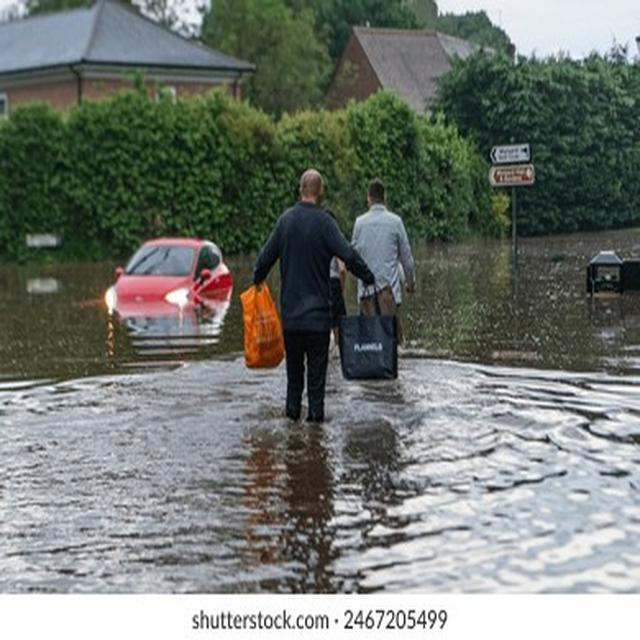Car-RiskLevel3: (102, 230, 242, 327)
Person-RiskLevel2: (238, 168, 387, 427), (336, 177, 437, 358)
